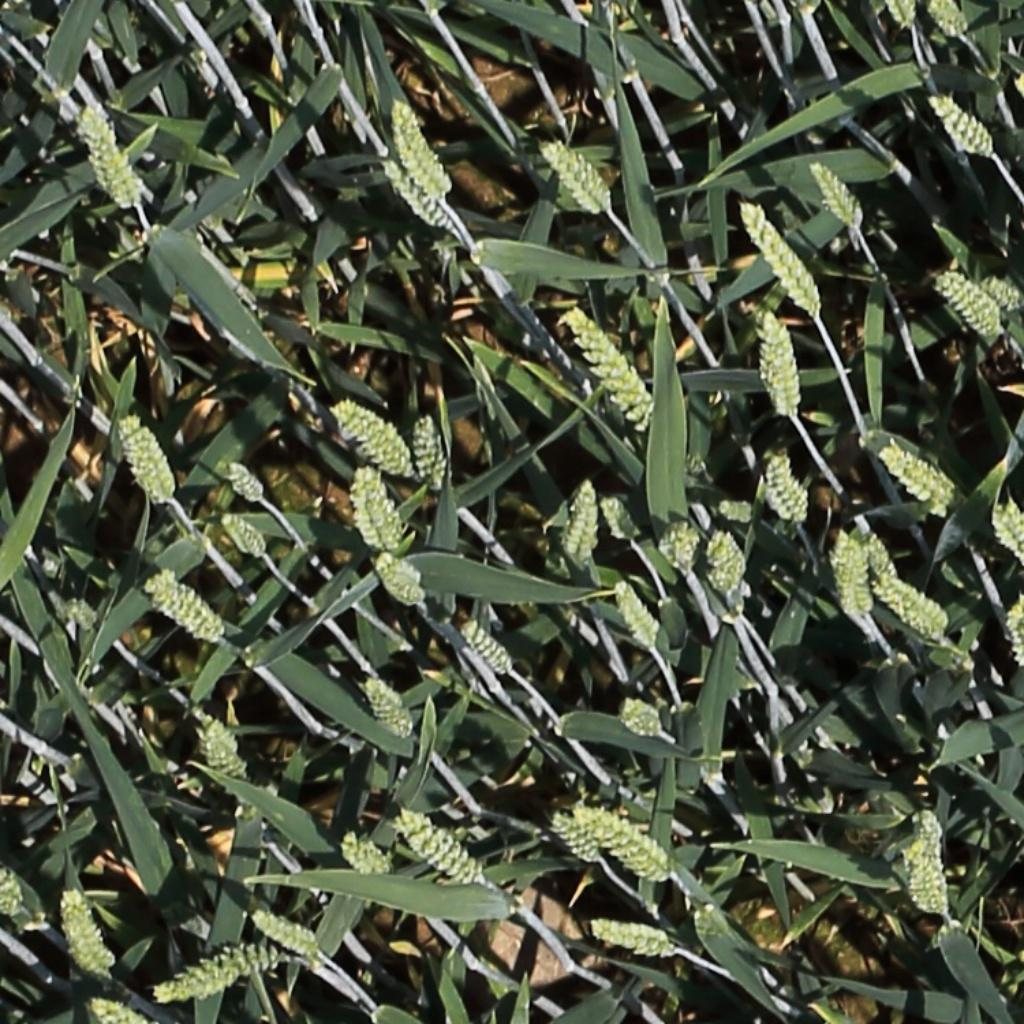0-0: (562, 301, 656, 430), (734, 200, 832, 321), (394, 808, 487, 888), (390, 94, 453, 199), (574, 808, 673, 873), (158, 947, 282, 998), (79, 102, 137, 210), (382, 158, 461, 234), (333, 400, 412, 473), (542, 136, 615, 212), (896, 808, 951, 908), (117, 410, 172, 507), (147, 576, 225, 641), (58, 886, 113, 976), (354, 464, 404, 561), (880, 445, 955, 509), (928, 90, 996, 159), (875, 577, 948, 640), (610, 573, 666, 655), (761, 305, 801, 419), (935, 267, 1002, 335), (808, 152, 866, 230), (359, 671, 417, 746), (457, 614, 518, 678), (196, 718, 249, 783), (768, 446, 809, 529), (566, 473, 600, 570), (550, 811, 607, 868), (409, 402, 448, 484), (249, 910, 320, 955), (862, 522, 906, 591), (707, 525, 749, 596), (591, 918, 675, 953), (215, 509, 271, 561), (371, 552, 425, 604), (596, 488, 644, 546), (991, 490, 1024, 572), (338, 835, 394, 880), (218, 457, 268, 506), (842, 543, 875, 615), (823, 528, 852, 604), (666, 516, 701, 578), (618, 697, 666, 738), (0, 841, 24, 913), (1004, 583, 1024, 665), (929, 0, 970, 39), (87, 995, 140, 1024), (58, 598, 98, 634), (980, 277, 1024, 307), (888, 0, 922, 35), (719, 498, 757, 525)
